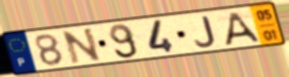4: (147, 18, 179, 56)
8: (34, 32, 65, 68)
9: (108, 22, 141, 60)
A: (223, 10, 263, 47)
J: (193, 15, 217, 48)
N: (60, 26, 104, 66)
